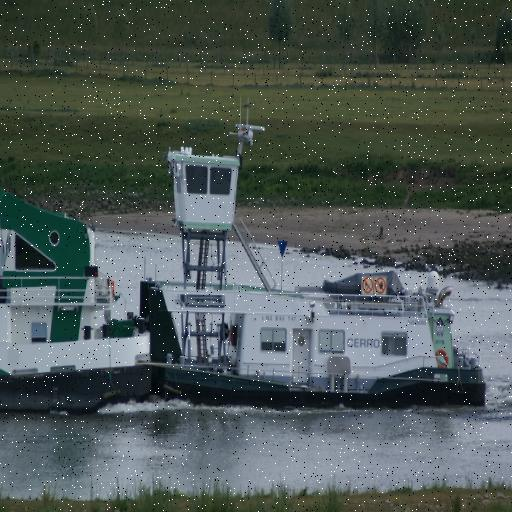tugboat: (134, 94, 490, 425)
